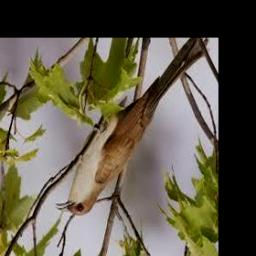Cuckoo: (55, 38, 210, 216)
